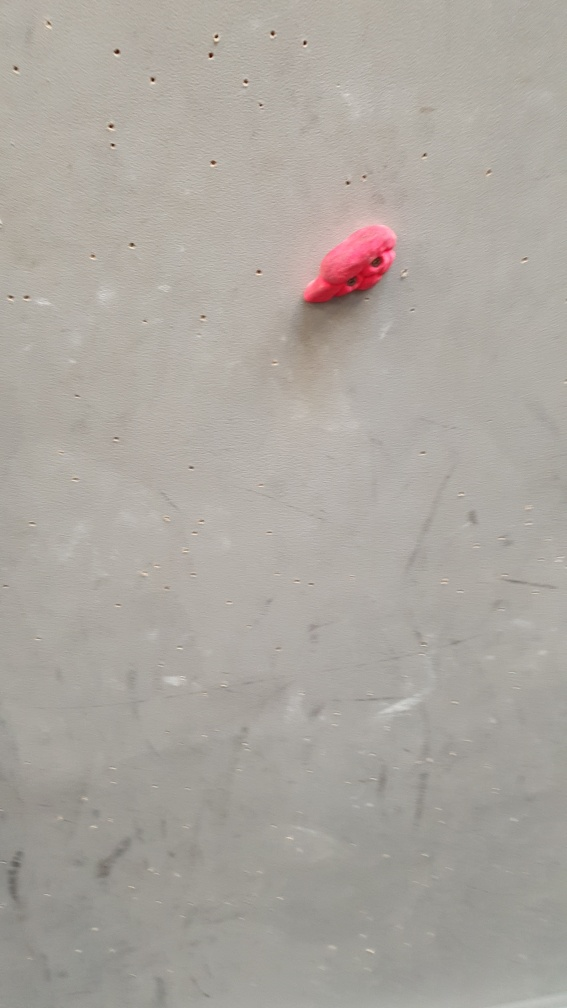Jug: (302, 222, 399, 307)
